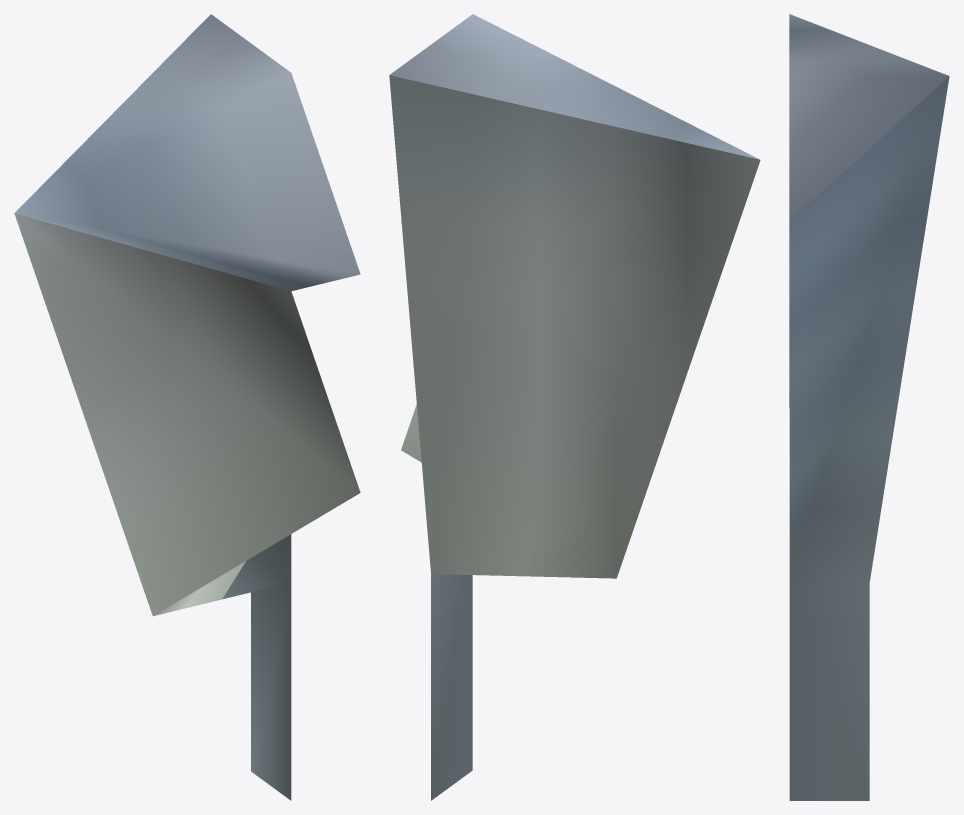
3 views of the same model, side by side, from view 1: azimuth 30°, elevation 25°; view 2: azimuth 150°, elevation 25°; view 3: azimuth 270°, elevation 25° (orthographic). The views are drawn at different scales.
Parts seen in each view (by area): view 1: 3043627270436162457_0; view 2: 3043627270436162457_0; view 3: 3043627270436162457_0.
Part boxes in pixels (x1,y1,x2,y2): 3043627270436162457_0: (14,14,360,800); 3043627270436162457_0: (389,14,760,800); 3043627270436162457_0: (789,14,949,800).
Bounding box in the file's own units: 1.53 × 3.08 × 0.6171.
1 material, 1 textured.
